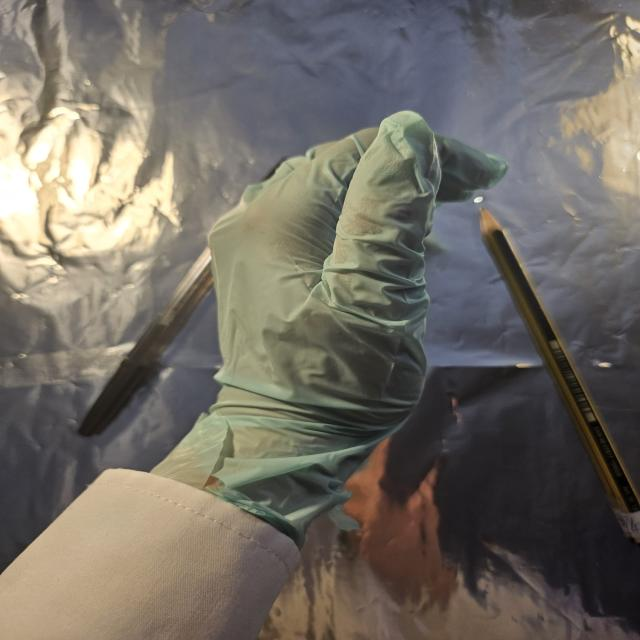gloves_damaged: (147, 108, 509, 538)
